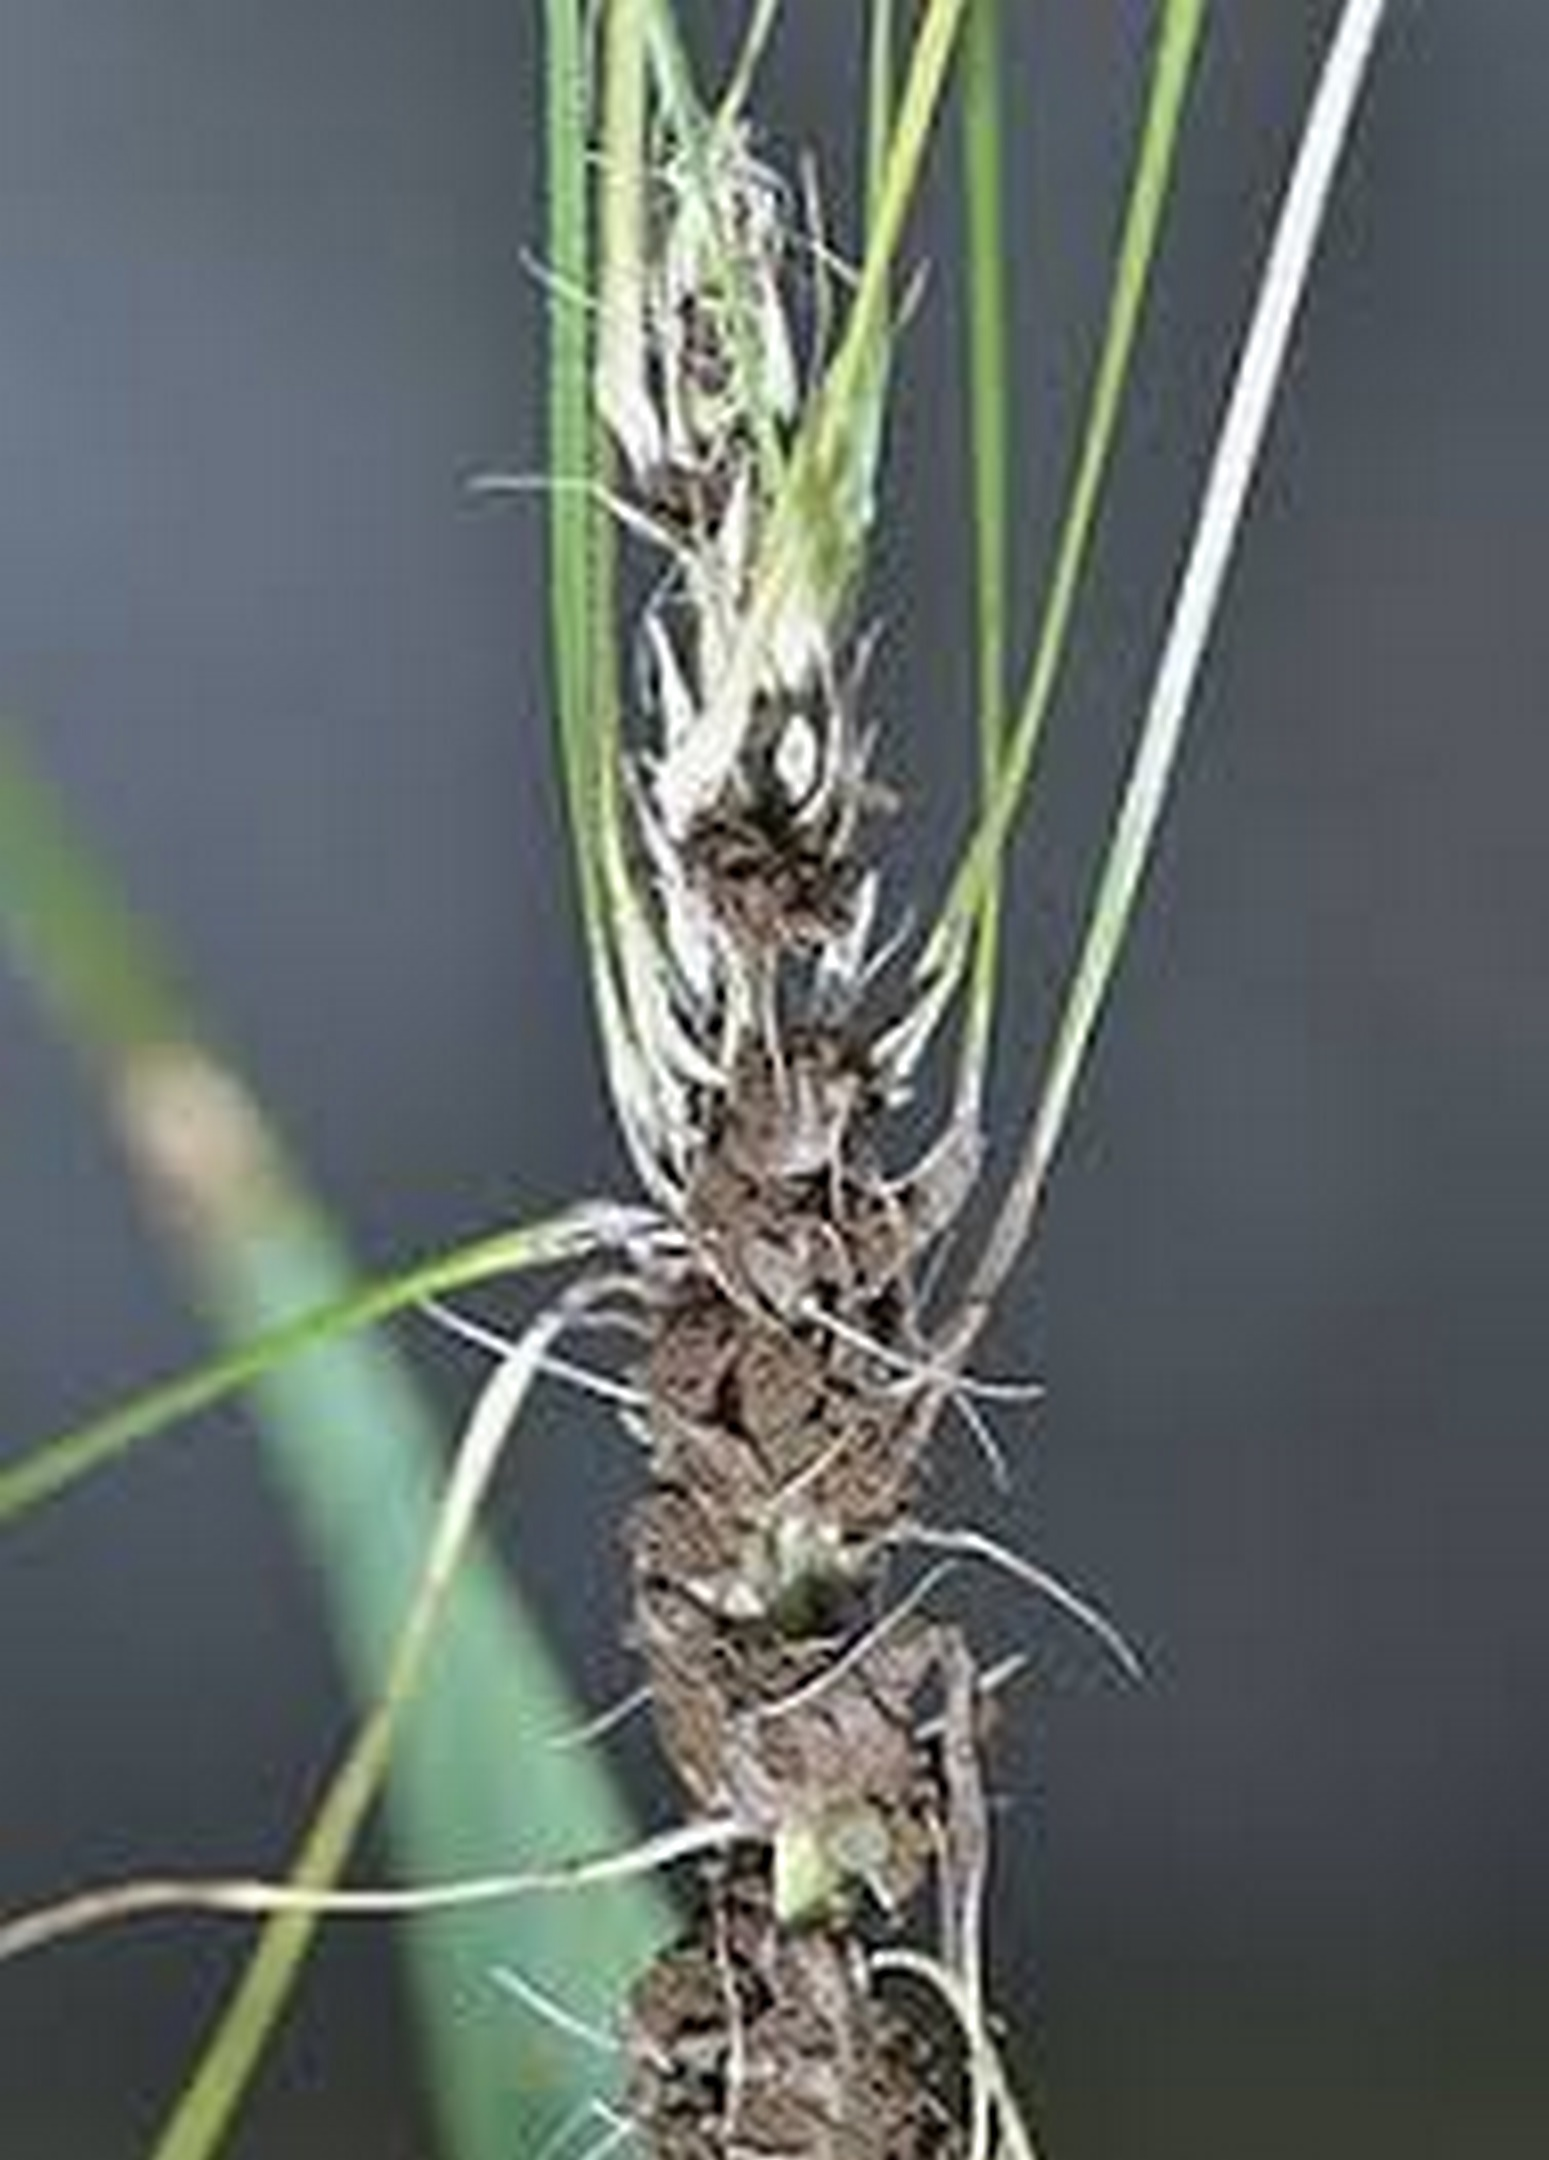Wheat Loose Smut: (557, 632, 989, 2116)
